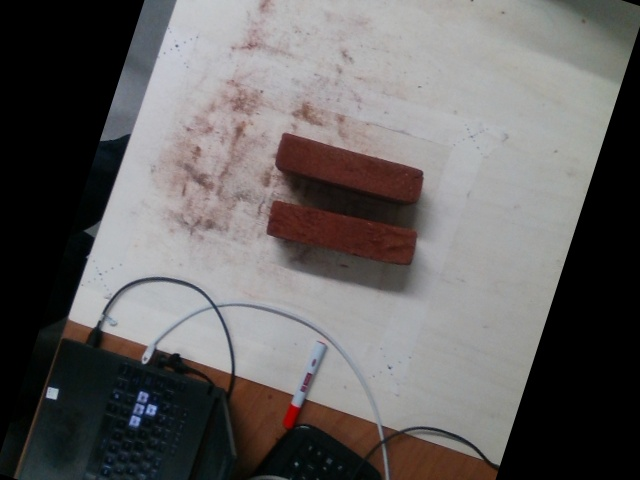brick-side: (276, 134, 422, 203), (268, 200, 420, 266)
